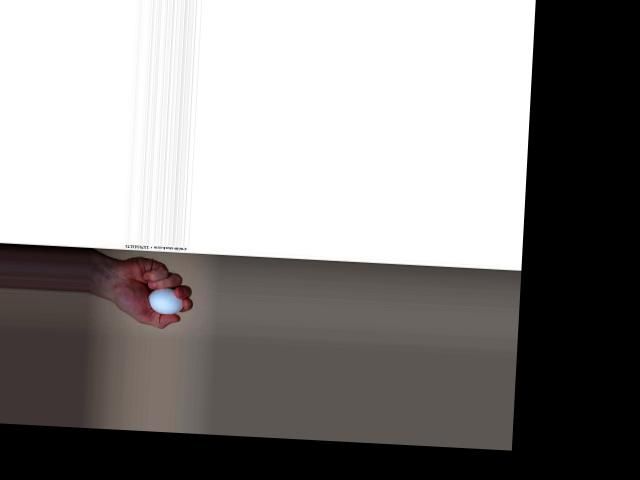egg: (146, 287, 183, 315)
